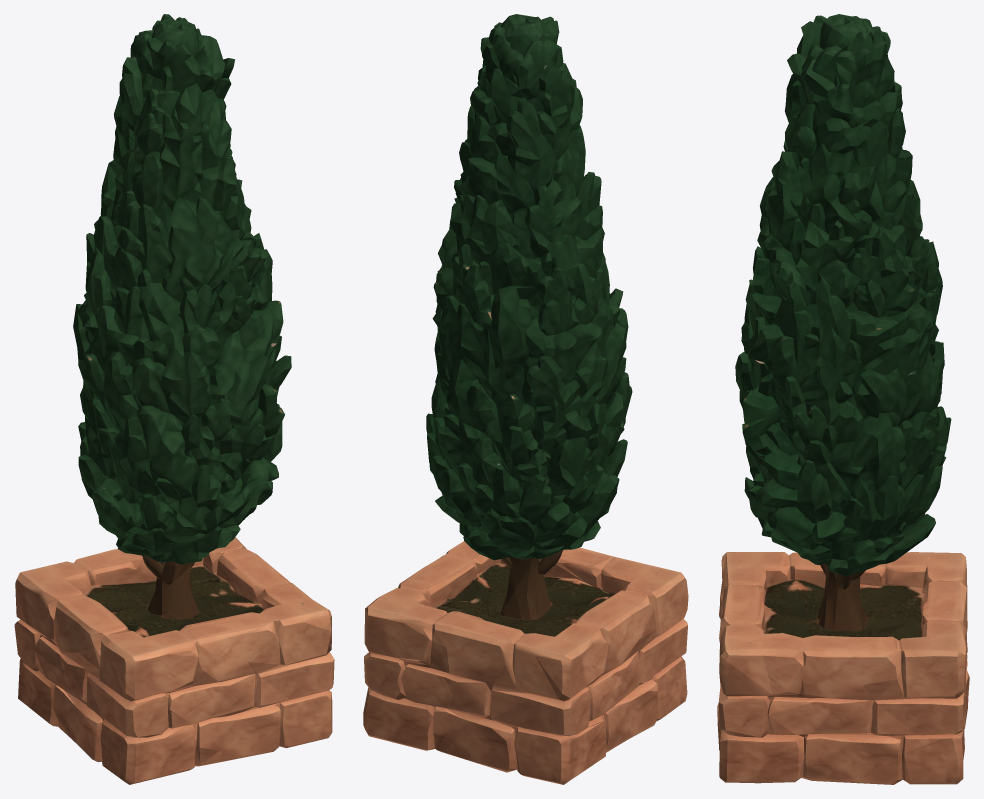
File: cypress.glb
The picture shows the model from 3 angles, left to right: view 1: azimuth 30°, elevation 25°; view 2: azimuth 150°, elevation 25°; view 3: azimuth 270°, elevation 25°; orthographic projection. The views are drawn at different scales.
Bounding box in the file's own units: 0.6095 × 1.9 × 0.6092.
1 material, 1 textured.
